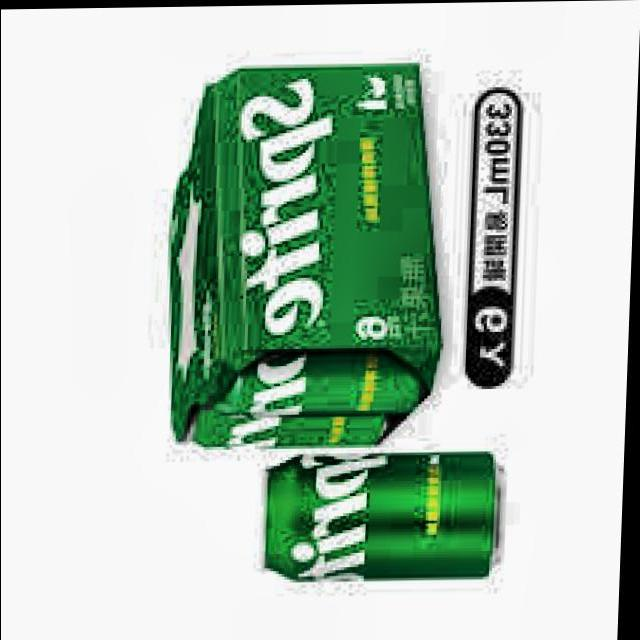litter: (252, 438, 522, 591), (202, 349, 440, 424), (179, 399, 396, 450)
